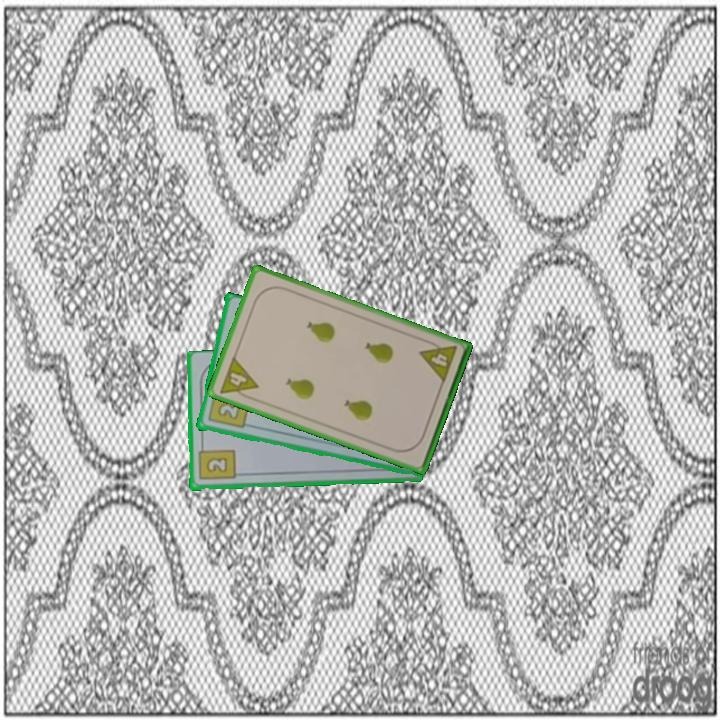2b: (204, 383, 251, 432), (195, 441, 237, 483)
4p: (216, 353, 261, 403), (416, 336, 459, 386)
